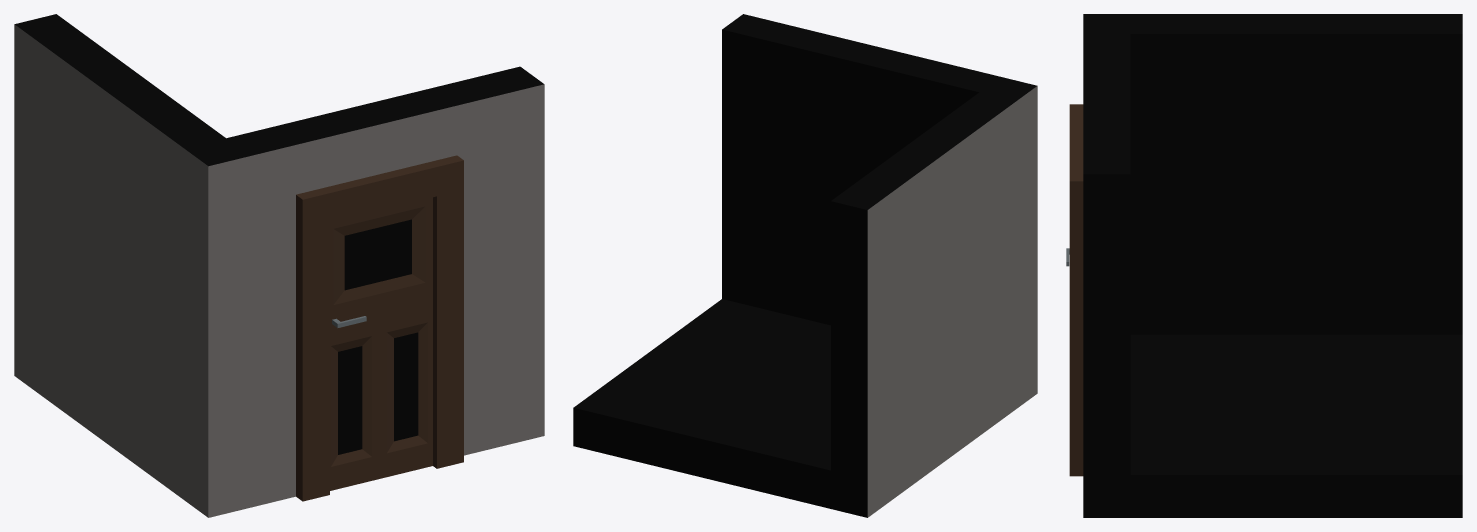
3 views of the same model, side by side, from view 1: azimuth 30°, elevation 25°; view 2: azimuth 150°, elevation 25°; view 3: azimuth 270°, elevation 25° (orthographic). The views are drawn at different scales.
Parts seen in each view (by area): view 1: floor_wall.067; view 2: floor_wall.067; view 3: floor_wall.067.
Part boxes in pixels (<box>): floor_wall.067: <box>14,14,544,517</box>; floor_wall.067: <box>573,14,1037,517</box>; floor_wall.067: <box>1066,14,1462,517</box>.
Bounding box in the file's own units: 200 × 200 × 209.
